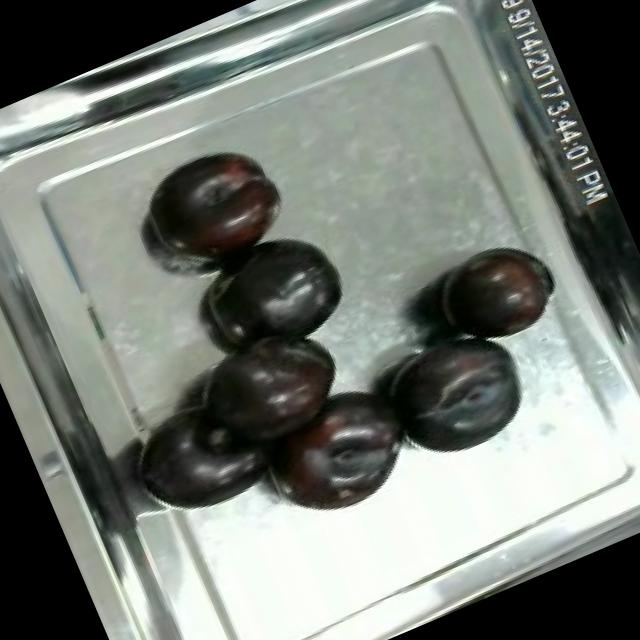Fruit: (246, 368, 437, 534), (362, 311, 546, 480), (178, 301, 358, 462), (129, 128, 301, 284), (197, 214, 364, 368), (424, 225, 570, 358)
